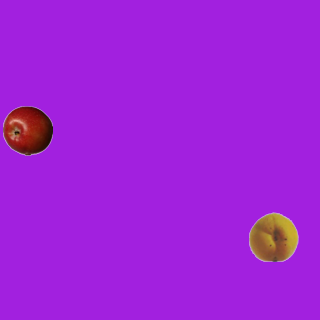Apple Braeburn: (2, 105, 52, 155)
Peach 2: (248, 211, 298, 261)
